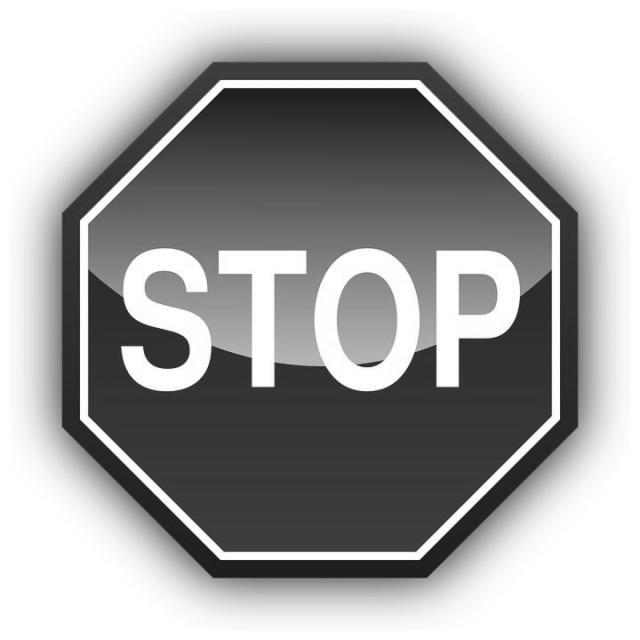Stop-sign: (51, 50, 594, 580)
